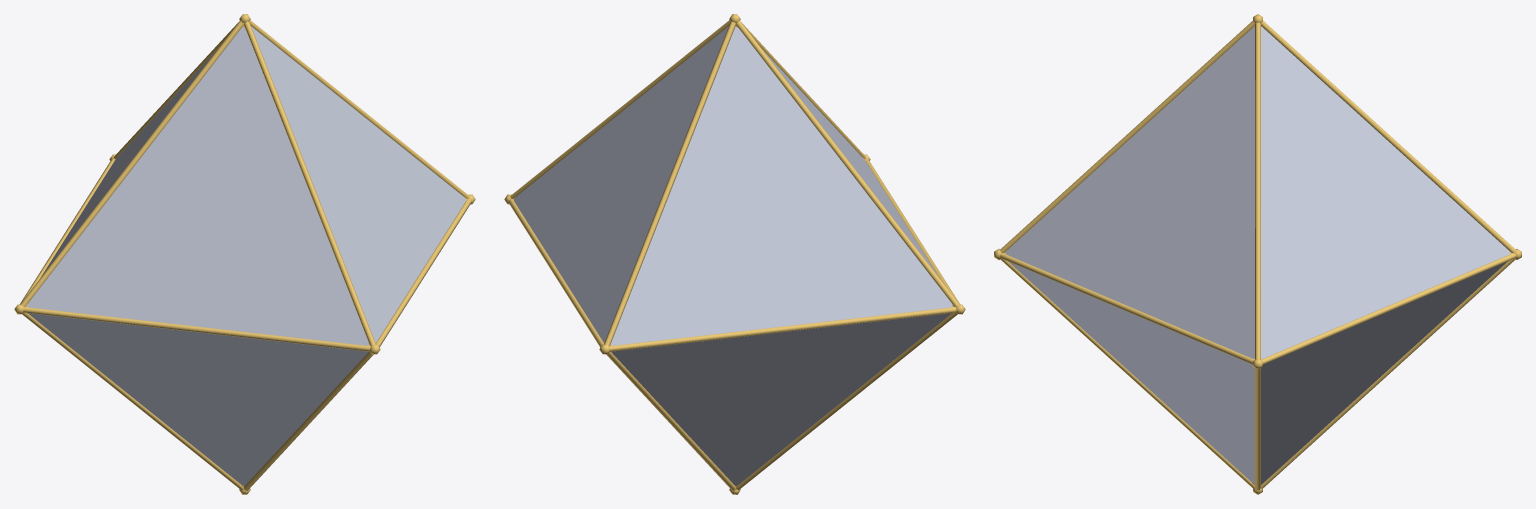
File: example.gltf
3 views of the same model, side by side, from view 1: azimuth 30°, elevation 25°; view 2: azimuth 150°, elevation 25°; view 3: azimuth 270°, elevation 25° (orthographic).
Visible parts, largest first — view 1: outer_cell, schlegel; view 2: outer_cell, schlegel; view 3: outer_cell, schlegel.
Part boxes in pixels (box(x1,y1,x2,y2)): outer_cell: box(27, 26, 465, 485); schlegel: box(14, 14, 475, 494); outer_cell: box(514, 26, 952, 485); schlegel: box(504, 14, 965, 494); outer_cell: box(1005, 26, 1510, 484); schlegel: box(994, 14, 1521, 494).
Bounding box in the file's own units: 1.44 × 1.44 × 1.44.
